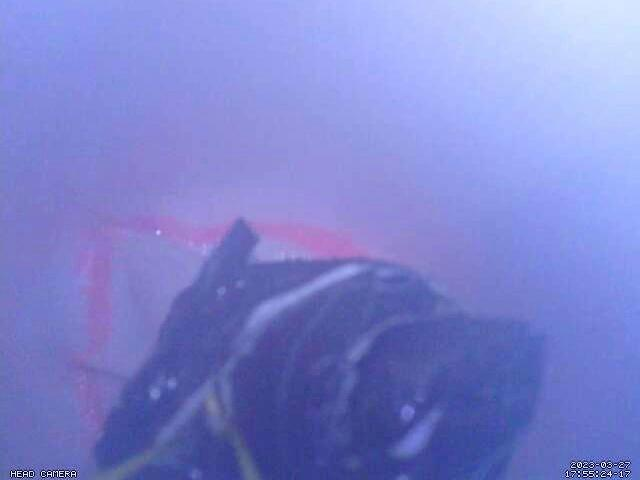head: (67, 213, 373, 456)
